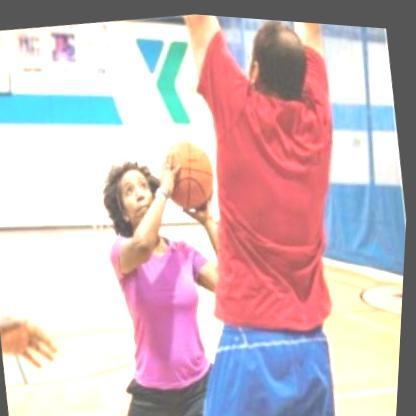basketball: (154, 131, 225, 209)
